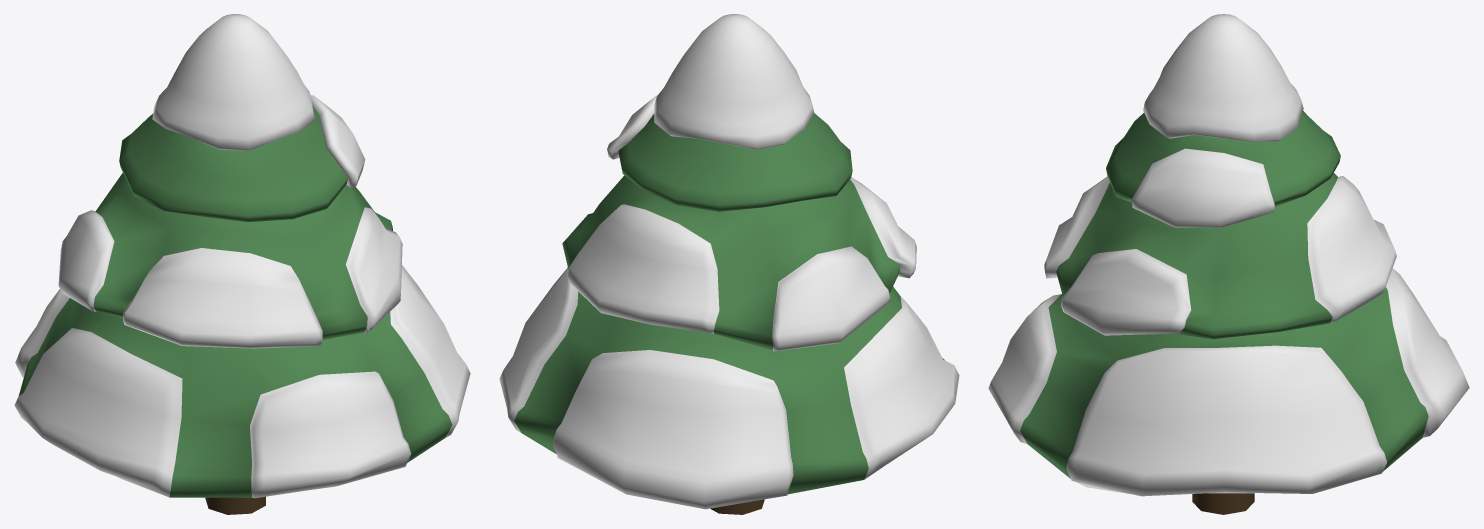
Rendered from Tree.fbx.
3 renders of one model, left to right at view 1: azimuth 30°, elevation 25°; view 2: azimuth 150°, elevation 25°; view 3: azimuth 270°, elevation 25°, orthographic.
Parts seen in each view (by area): view 1: Tree; view 2: Tree; view 3: Tree.
Part boxes in pixels (x1,y1,x2,y2): Tree: (14,14,470,514); Tree: (499,14,959,514); Tree: (988,14,1469,514).
Size of the model in its own units: 424 by 492 by 443.
